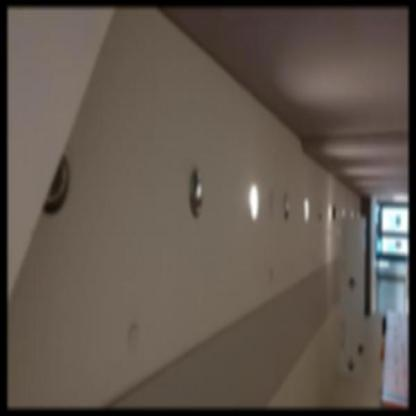light_off: (40, 132, 76, 230), (176, 149, 211, 231), (281, 173, 291, 236), (314, 189, 325, 241), (332, 192, 338, 235)
